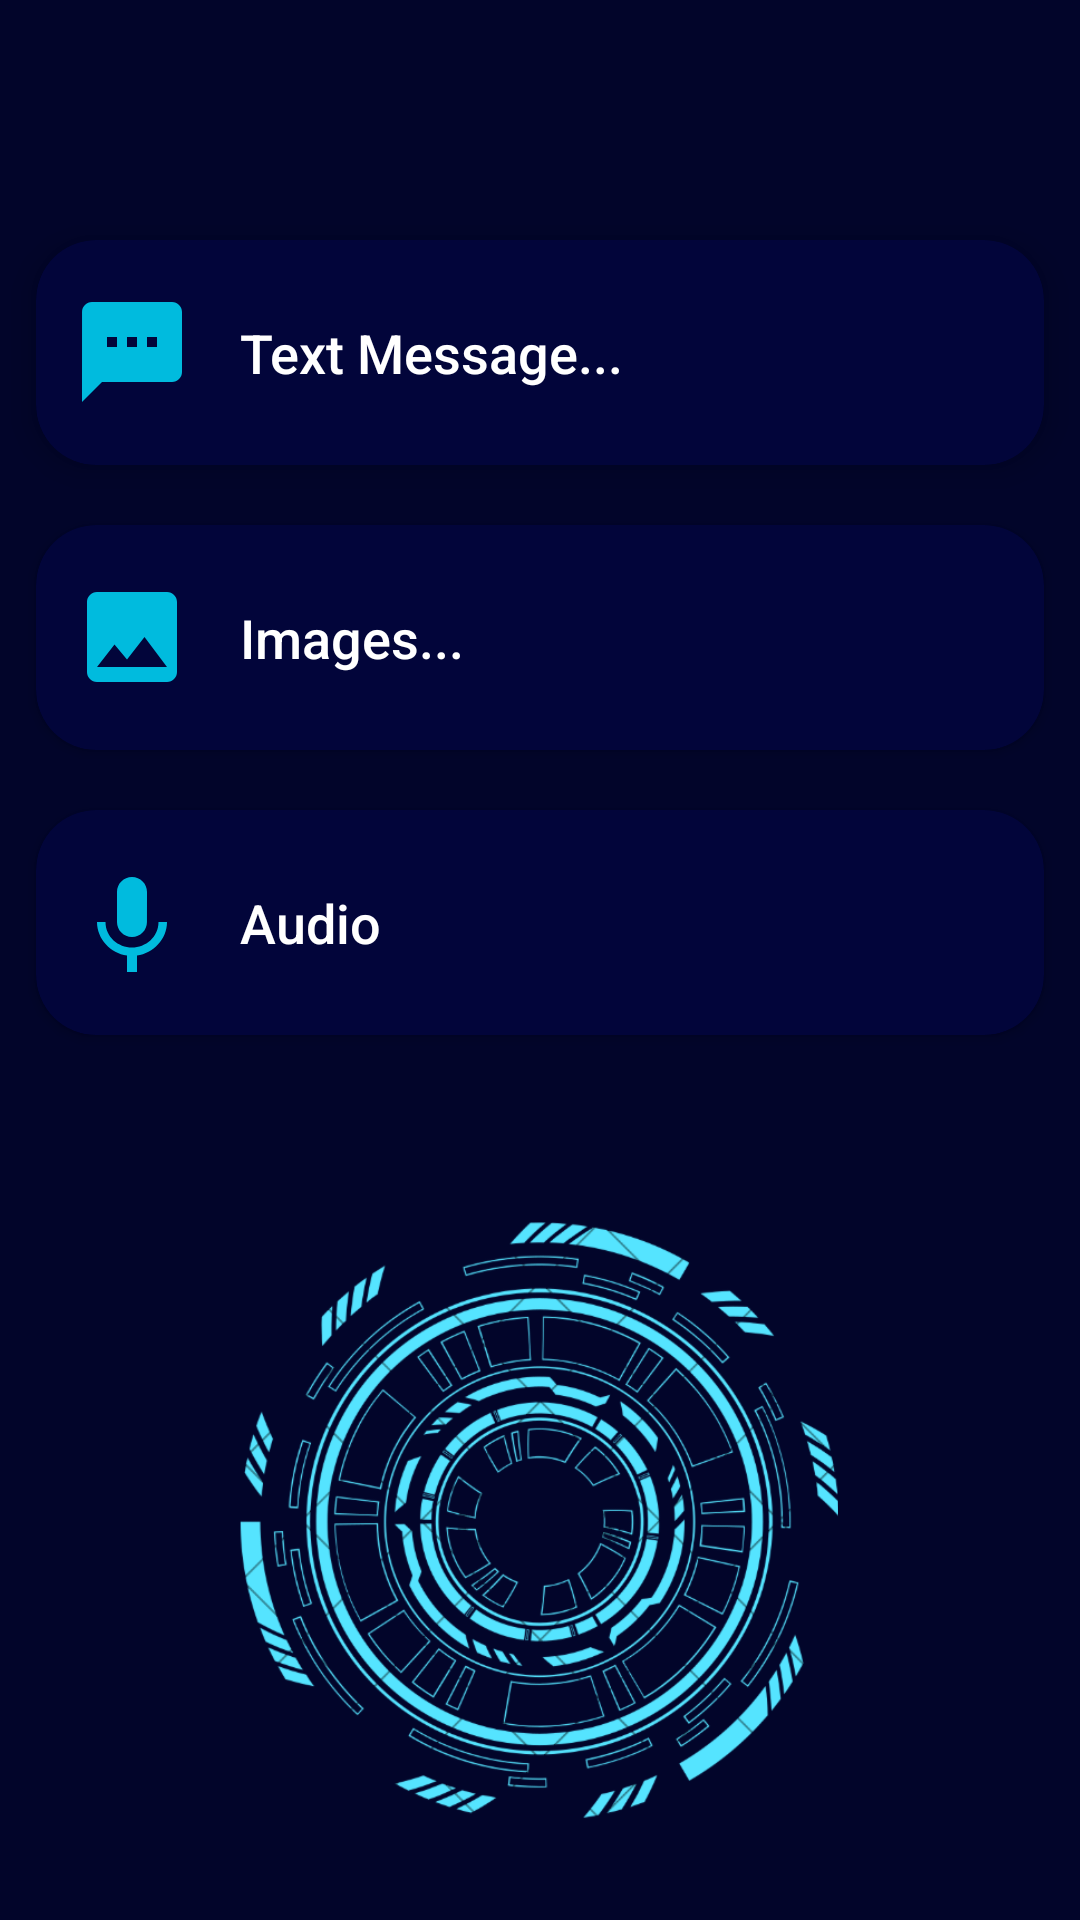

Icon bounding boxes for this 1080*1920 phone screenshot, format (x1, y1, x2, y2):
keyboard voice: (97, 877, 167, 972)
textsms: (82, 302, 182, 402)
